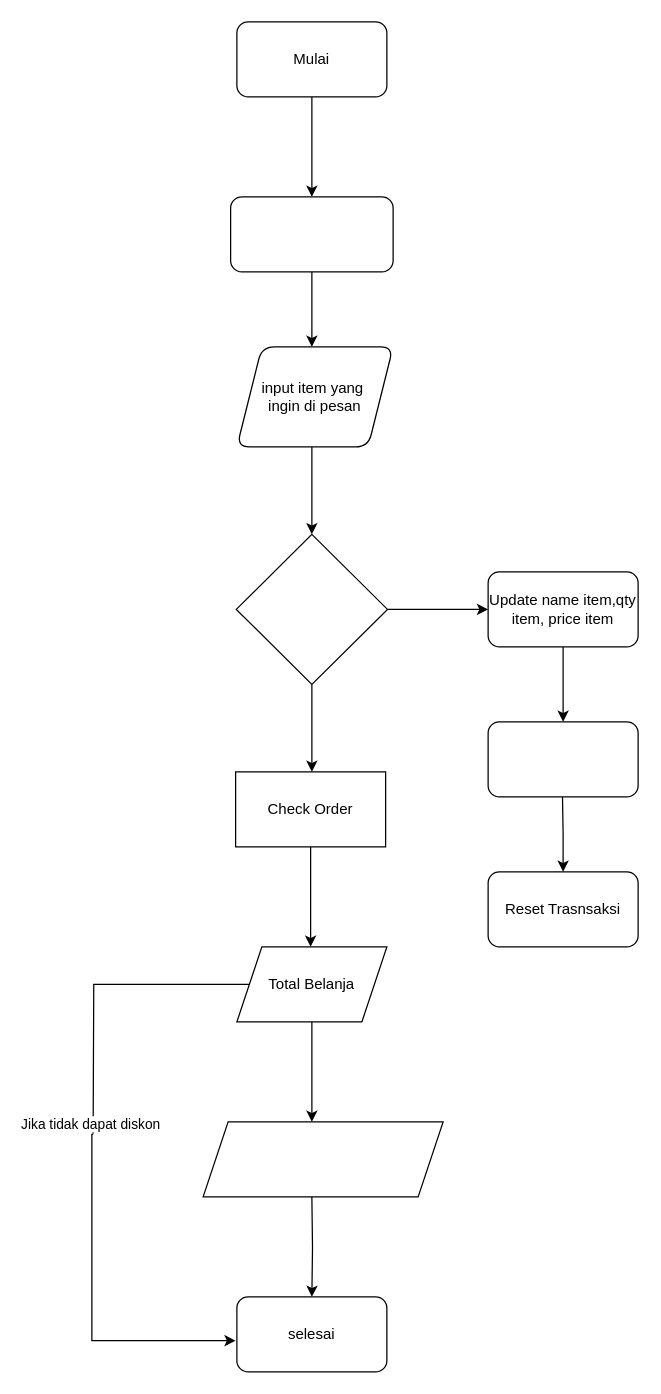
Image size: 661x1394. Some labels were removed from this diagram. Each missing label, with the centre of its shape:
Delete Item: the point at 562,759
membuat ID transaksi: the point at 311,234
mendapatkan diskon jika berbelanja lebih dari 200.000, 300.000 dan 500.000: the point at 322,1159
Option: the point at 311,608
